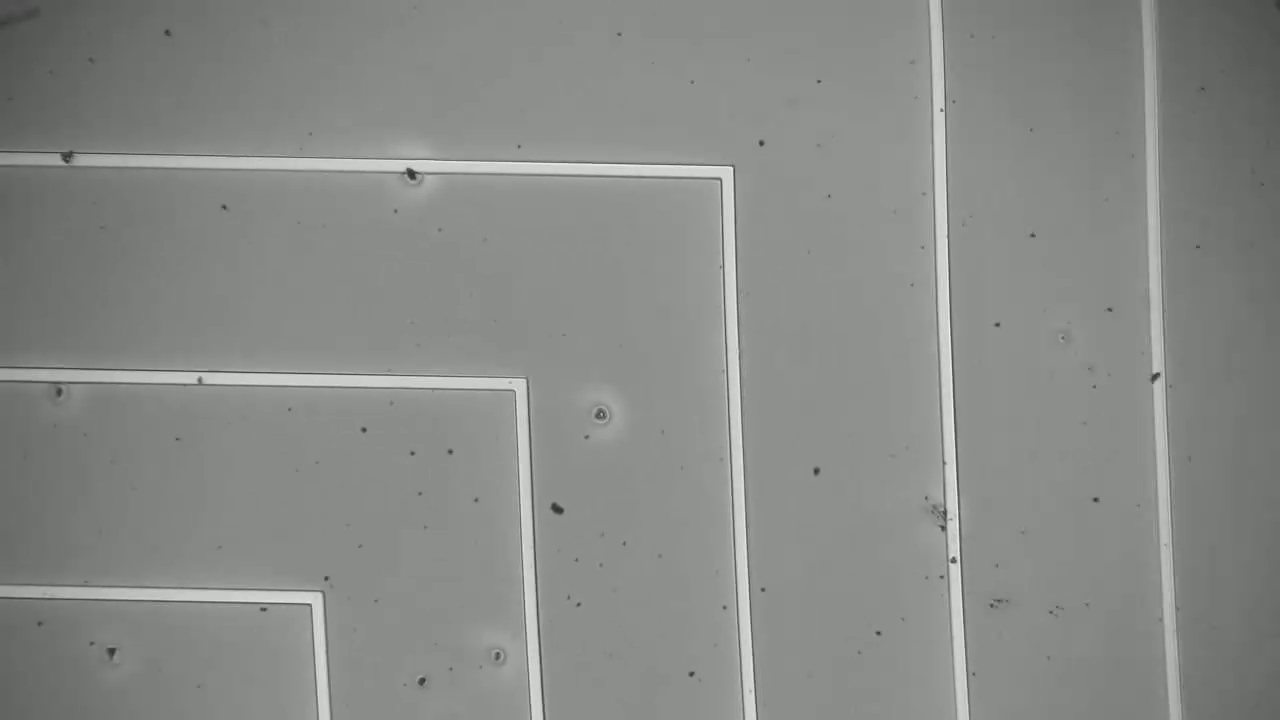stains_enbedded: (396, 150, 427, 191), (55, 139, 82, 177), (1145, 360, 1167, 386)
